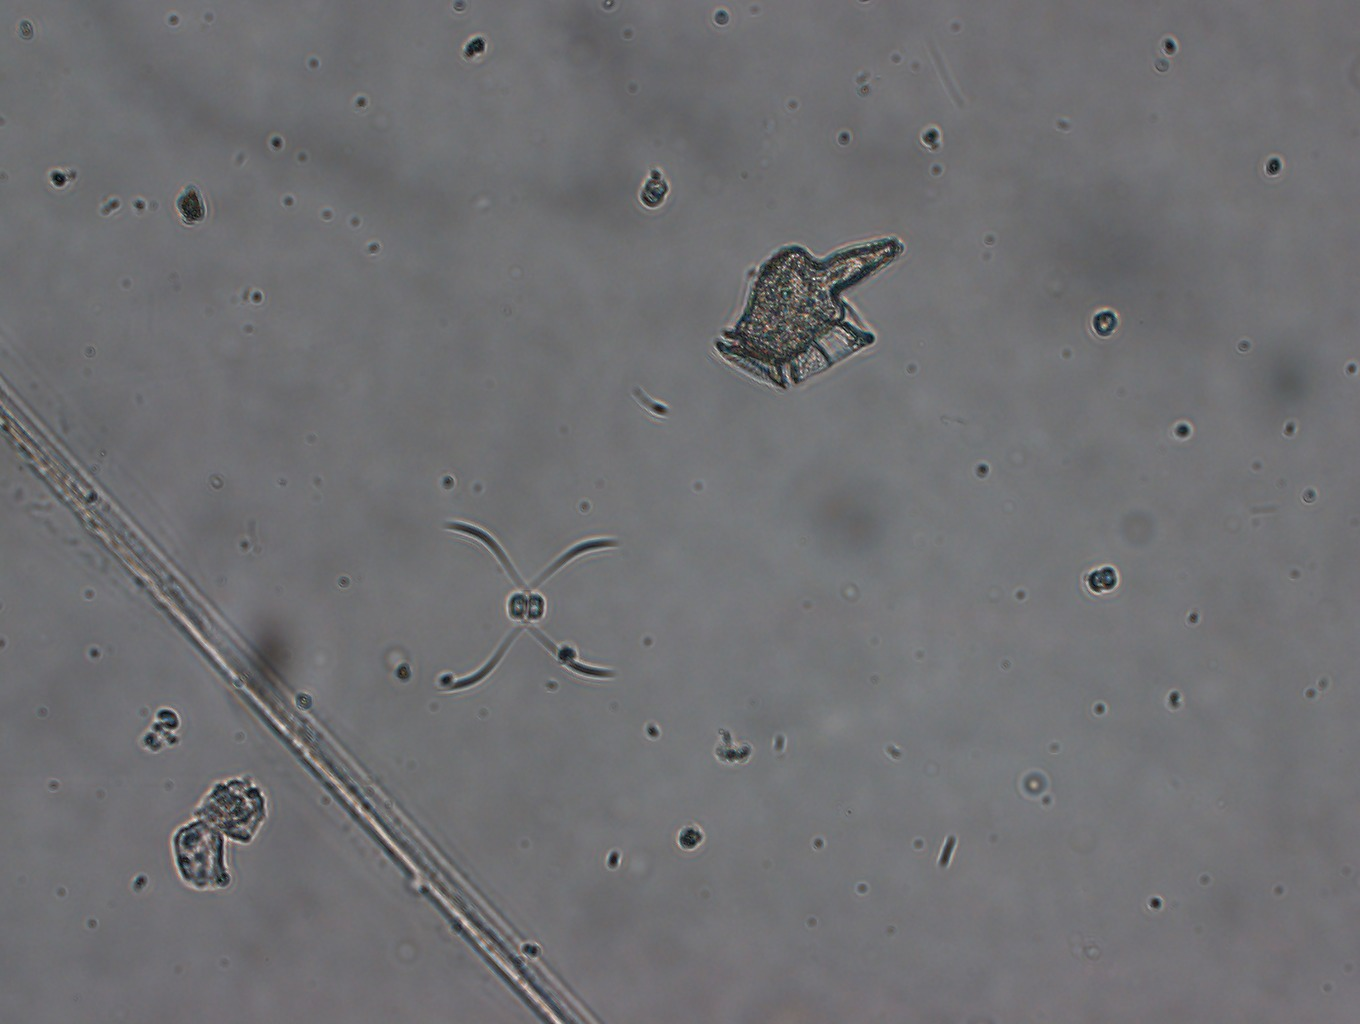chaetoceros: (435, 518, 634, 689)
dinophysis caudata: (706, 228, 908, 399)
